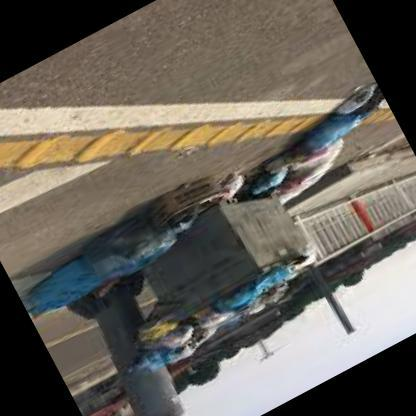Garbage: (244, 74, 408, 212), (9, 206, 170, 332), (128, 257, 302, 370), (84, 198, 194, 290), (108, 300, 209, 388), (17, 250, 97, 320), (204, 271, 280, 325), (212, 160, 260, 204)
